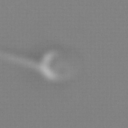normal: (1, 49, 40, 71)
